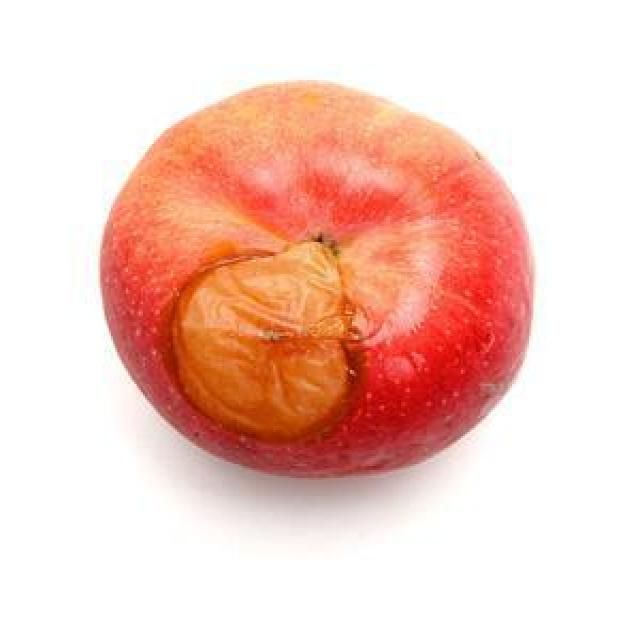Rotten: (105, 75, 512, 500)
